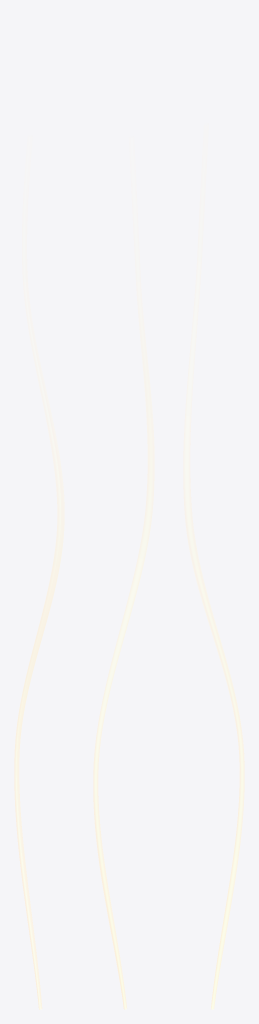
File: strand_a_danger.glb
3 renders of one model, left to right at view 1: azimuth 90°, elevation 25°; view 2: azimuth 150°, elevation 25°; view 3: azimuth 330°, elevation 25°, orthographic.
Size of the model in its own units: 0.3251 by 7 by 0.3223.
